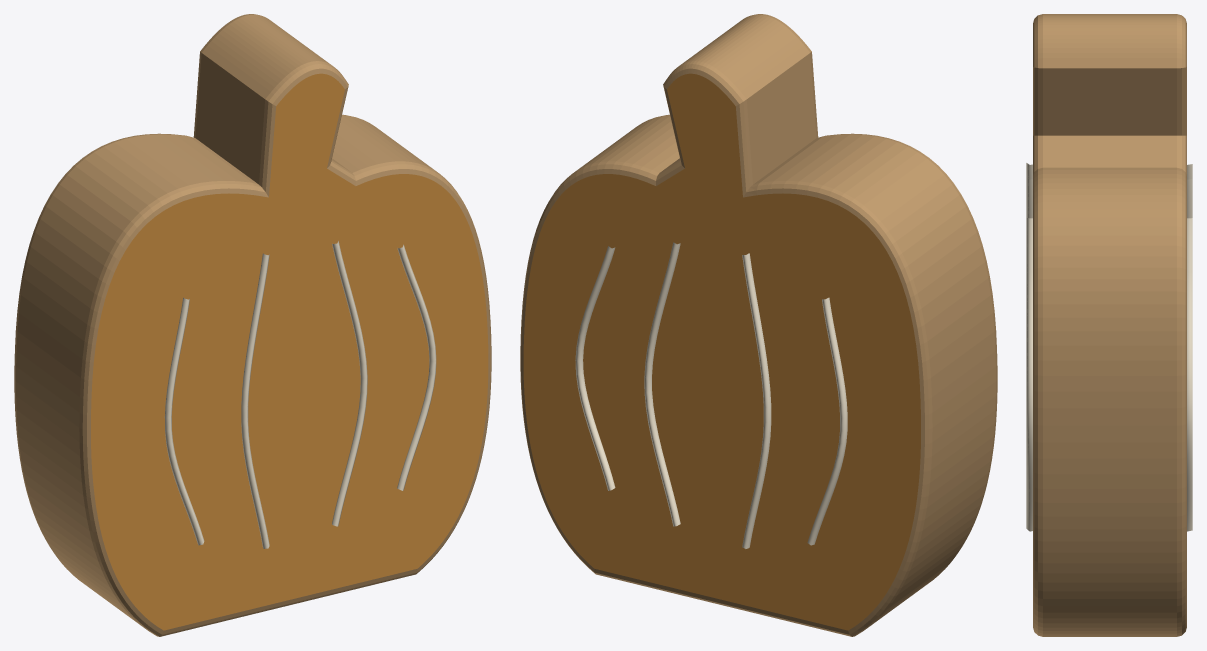
File: meeple-1.glb
3 views of the same model, side by side, from view 1: azimuth 30°, elevation 25°; view 2: azimuth 150°, elevation 25°; view 3: azimuth 270°, elevation 25° (orthographic). The views are drawn at different scales.
Parts seen in each view (by area): view 1: meeple-1-호박; view 2: meeple-1-호박; view 3: meeple-1-호박.
Boxes of the visible parts, x1,y1,x2,y2 form: meeple-1-호박: (14, 14, 491, 636); meeple-1-호박: (520, 14, 997, 636); meeple-1-호박: (1026, 14, 1192, 636).
Bounding box in the file's own units: 0.024 × 0.03 × 0.008.
